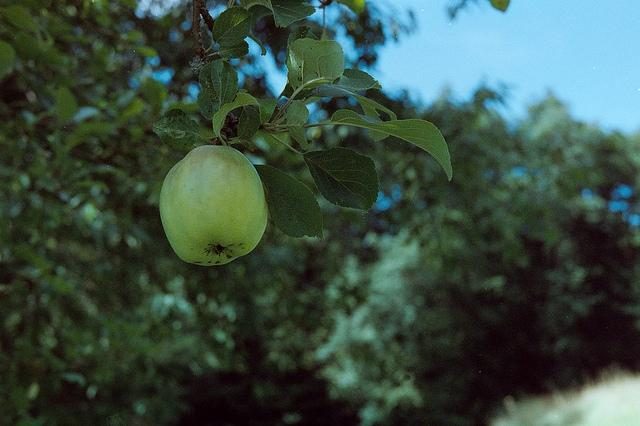apple: (159, 144, 269, 267)
